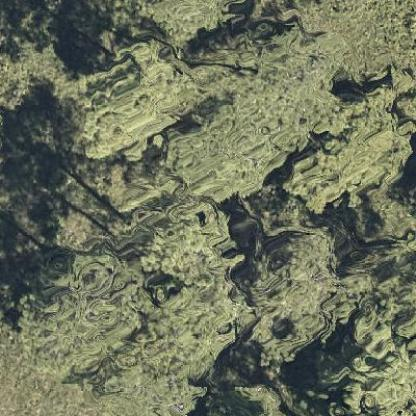tree-top: (58, 41, 196, 160), (285, 89, 415, 205), (244, 218, 348, 362), (19, 251, 136, 370), (140, 198, 238, 278), (125, 0, 242, 40)
